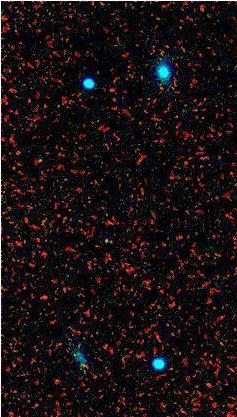star: (61, 343, 91, 373)
